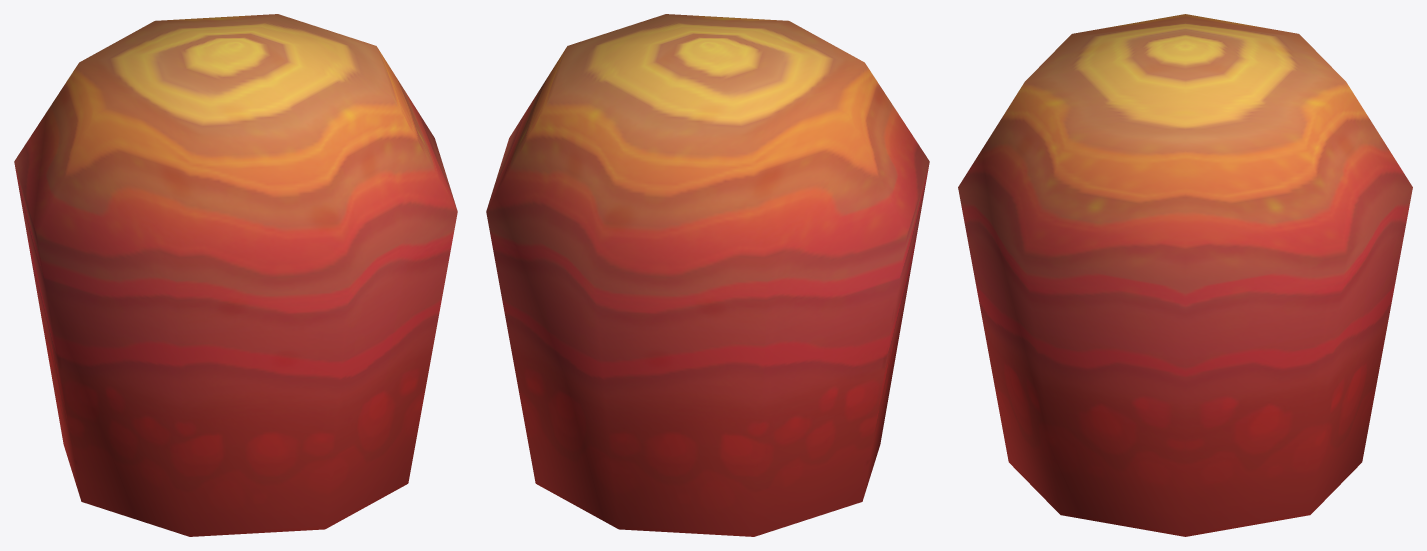
3 views of the same model, side by side, from view 1: azimuth 30°, elevation 25°; view 2: azimuth 150°, elevation 25°; view 3: azimuth 270°, elevation 25° (orthographic).
Parts seen in each view (by area): view 1: wk_s02_50; view 2: wk_s02_50; view 3: wk_s02_50.
Boxes of the visible parts, x1,y1,x2,y2 form: wk_s02_50: (14,14,457,536); wk_s02_50: (486,14,929,536); wk_s02_50: (958,14,1412,536).
Bounding box in the file's own units: 1.79 × 1.79 × 1.81.
1 material, 1 textured.
